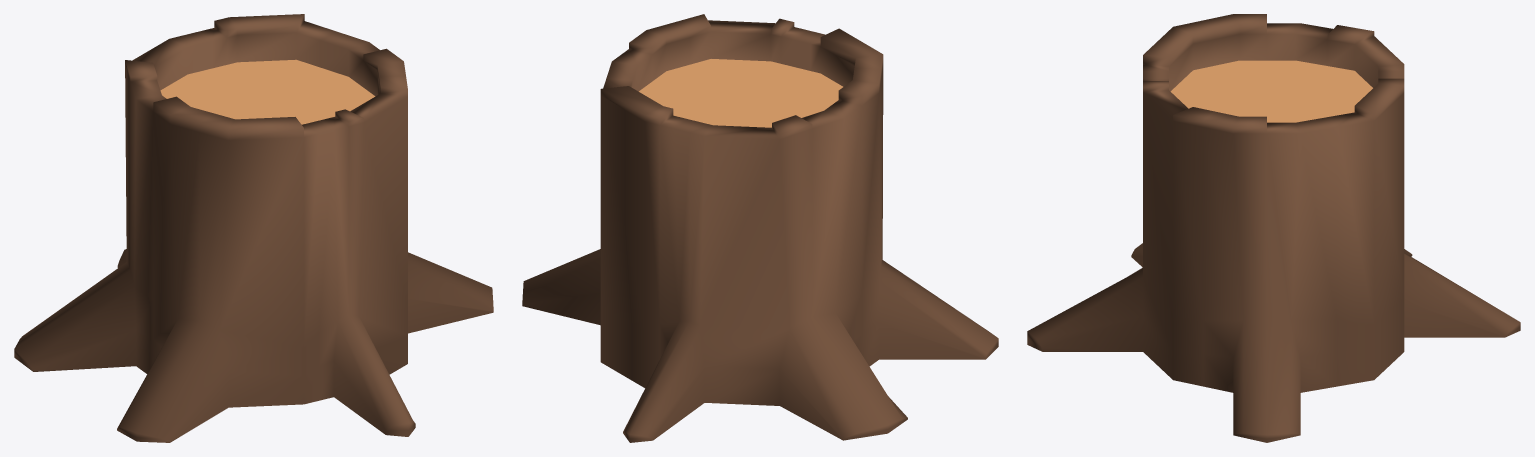
Rendered from TreeStump.fbx.
3 views of the same model, side by side, from view 1: azimuth 30°, elevation 25°; view 2: azimuth 150°, elevation 25°; view 3: azimuth 270°, elevation 25° (orthographic). The views are drawn at different scales.
Visible parts, largest first — view 1: MSH_TreeStump; view 2: MSH_TreeStump; view 3: MSH_TreeStump.
Part boxes in pixels (x1,y1,x2,y2): MSH_TreeStump: (14, 14, 493, 442); MSH_TreeStump: (522, 14, 998, 442); MSH_TreeStump: (1027, 14, 1520, 442).
Size of the model in its own units: 470 by 294 by 491.
